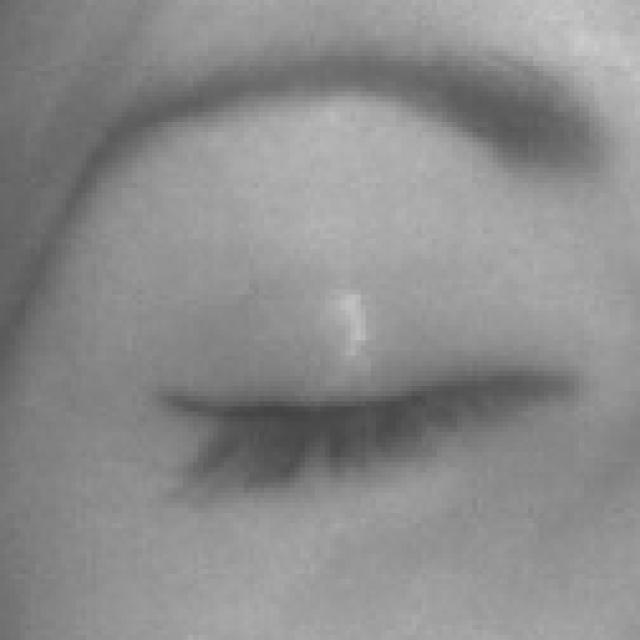Eyeclosed: (160, 251, 597, 578)
